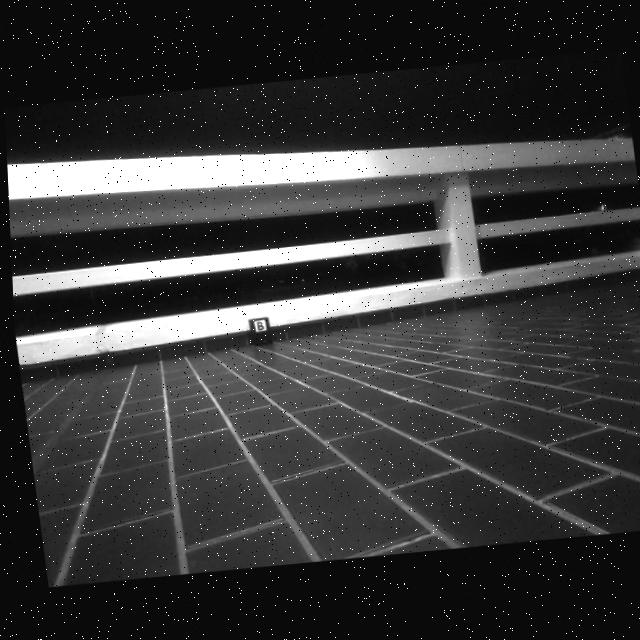B: (252, 321, 261, 331)
